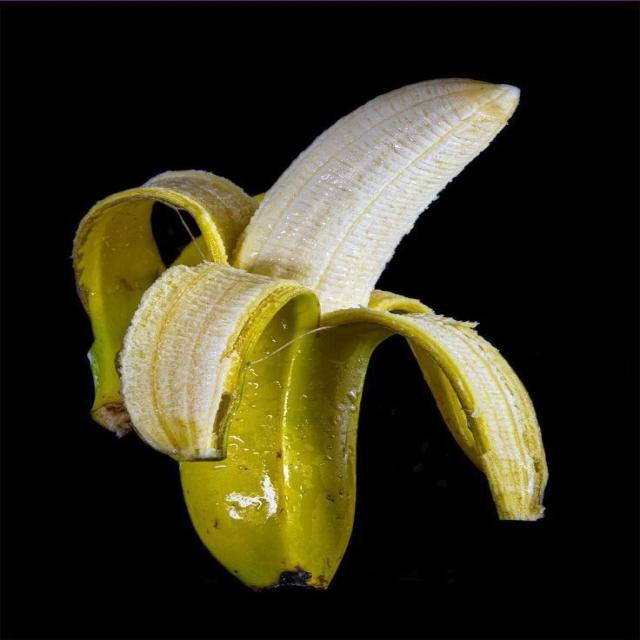banana: (85, 79, 546, 588), (233, 79, 519, 312), (74, 171, 256, 434)
